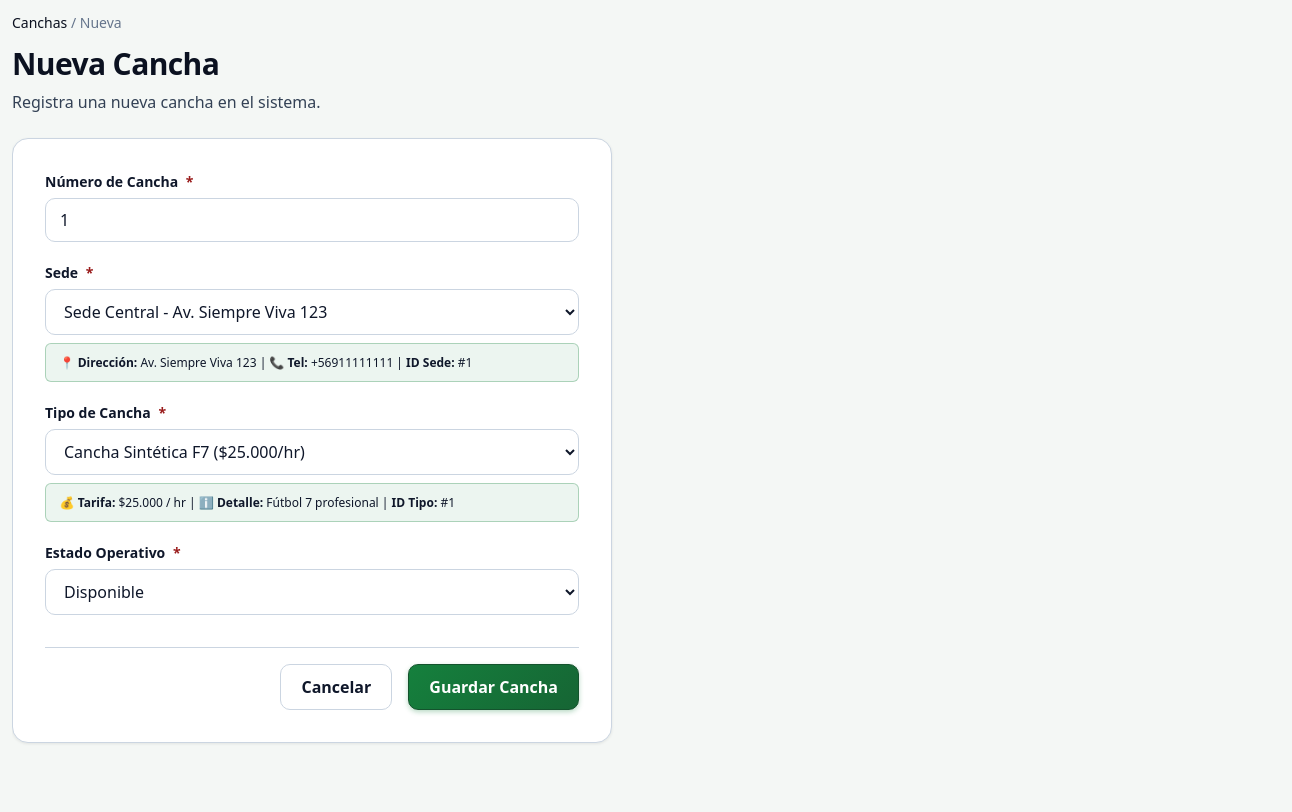
Test: CanchaFormPage – Creación y validación de canchas › permite enviar el formulario y muestra notificación accesible de éxito
Step 1. Replace the text in the number field labelled "Número de Cancha *" with "105" → (312, 220), box [45,198,579,242]
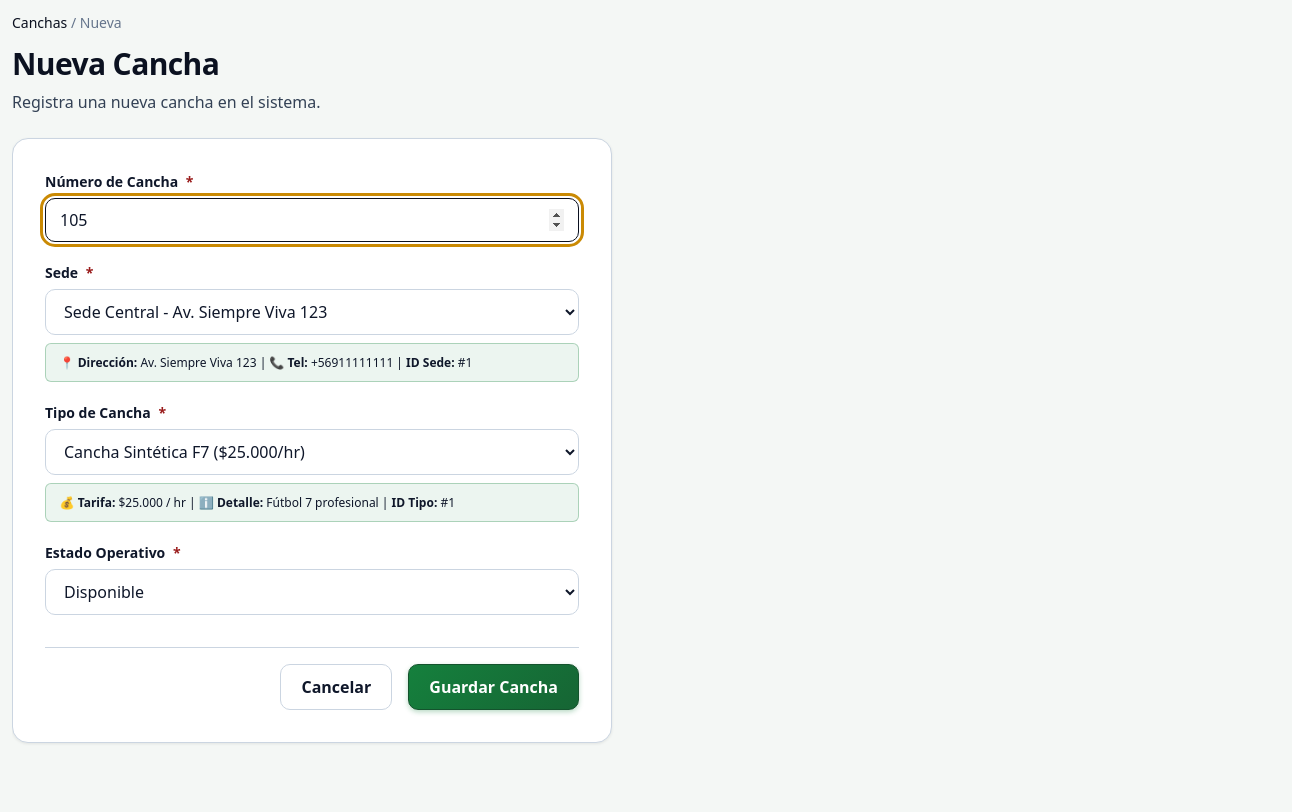
Step 2. Click the button "Guardar Cancha" → click(494, 687), box [408,664,579,710]
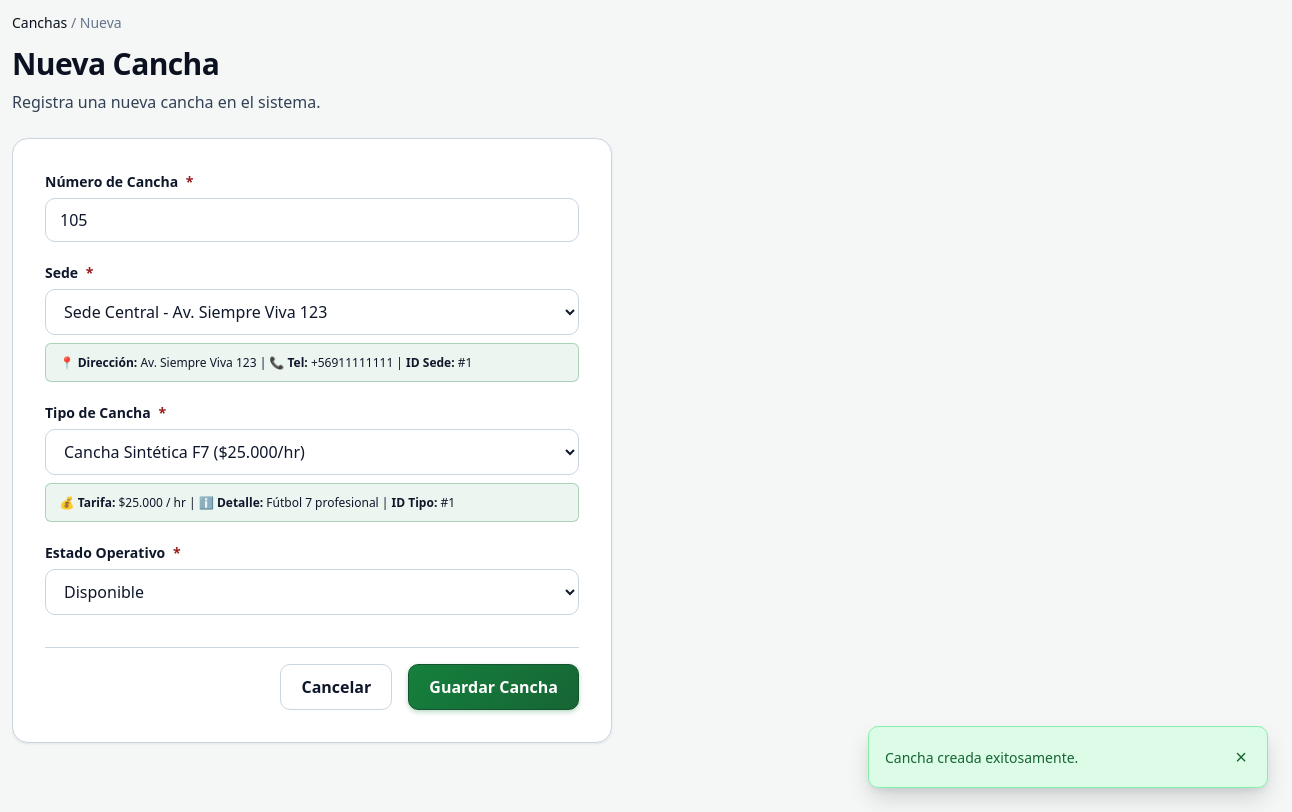
Expected: the message shows "Cancha creada exitosamente", [885,748,1078,766]
